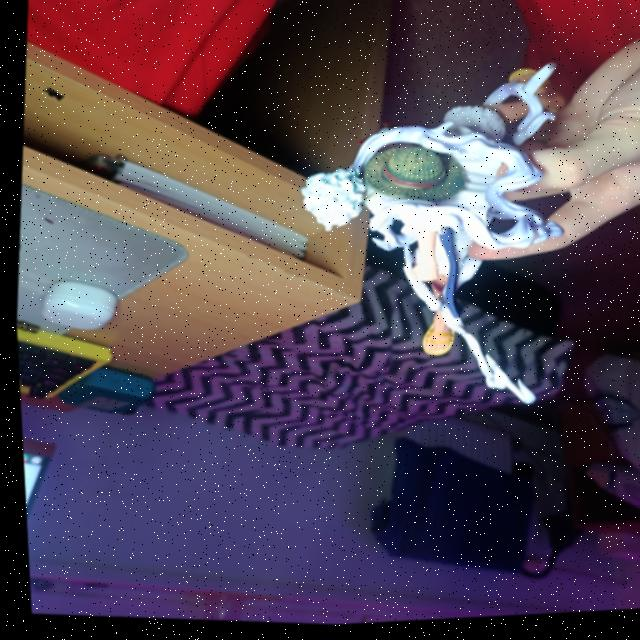luffy: (273, 41, 588, 430)
